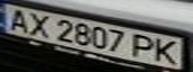0: (90, 24, 109, 51)
2: (51, 16, 75, 44)
7: (106, 27, 130, 54)
8: (72, 20, 93, 47)
A: (3, 7, 33, 34)
K: (148, 37, 184, 65)
P: (127, 33, 160, 58)
X: (24, 10, 54, 38)
